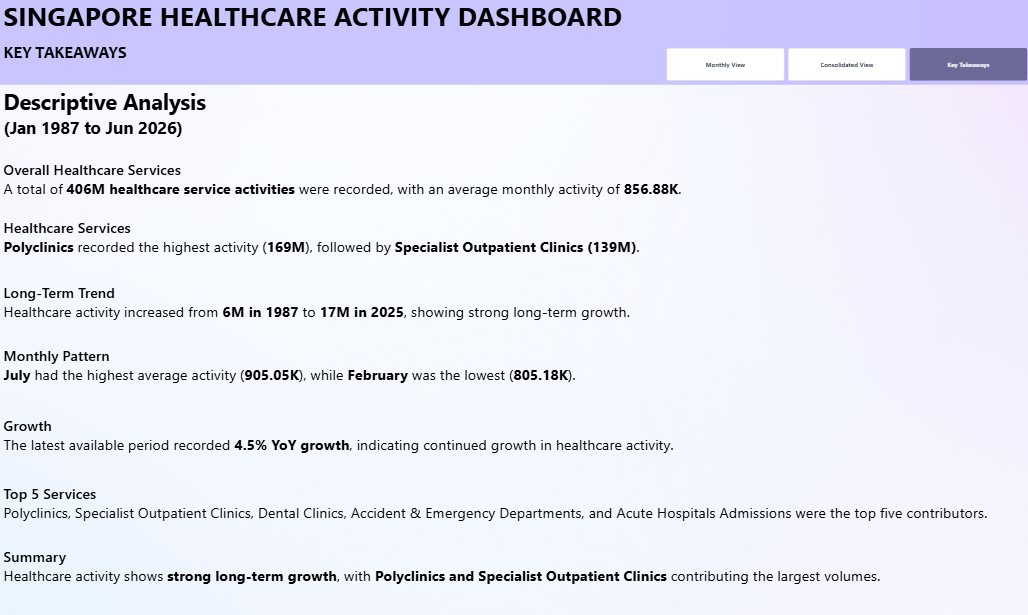

The page's visual inventory and layout, read from the dashboard file:
{"tool":"powerbi","page":{"name":"Key Takeaways","canvas":[2300,1400],"ordinal":2},"visuals":[{"type":"shape","box":[0,0,2300,195],"z":0},{"type":"textbox","box":[22.5,100,280,50],"z":1000},{"type":"textbox","box":[23.3,0,1496.7,93.3],"z":2000},{"type":"textbox","box":[23.3,200,633.3,120],"z":3000},{"type":"textbox","box":[23.3,343.3,2200,122],"z":4000},{"type":"textbox","box":[23.3,490,2200,110],"z":5000},{"type":"textbox","box":[23.3,633.3,2200,116.7],"z":5001},{"type":"textbox","box":[23.3,773.3,2200,116.7],"z":5002},{"type":"textbox","box":[23.3,930,2200,120],"z":5003},{"type":"textbox","box":[23.3,1080,2200,116.7],"z":5004},{"type":"textbox","box":[23.3,1220,2200,120],"z":5005},{"type":"pageNavigator","box":[1496.7,113.3,803.3,73.3],"z":5006}]}

Visuals, with their boxes in screenshot pixels (x1, y1, x2, y2), scaled from the page's 2300x1400 canvas onto the 1028x615 screenshot:
shape: pyautogui.locateOnScreen(0, 0, 1027, 86)
textbox: pyautogui.locateOnScreen(10, 44, 135, 66)
textbox: pyautogui.locateOnScreen(10, 0, 679, 41)
textbox: pyautogui.locateOnScreen(10, 88, 293, 141)
textbox: pyautogui.locateOnScreen(10, 151, 994, 204)
textbox: pyautogui.locateOnScreen(10, 215, 994, 264)
textbox: pyautogui.locateOnScreen(10, 278, 994, 329)
textbox: pyautogui.locateOnScreen(10, 340, 994, 391)
textbox: pyautogui.locateOnScreen(10, 409, 994, 461)
textbox: pyautogui.locateOnScreen(10, 474, 994, 526)
textbox: pyautogui.locateOnScreen(10, 536, 994, 589)
pageNavigator: pyautogui.locateOnScreen(669, 50, 1027, 82)
